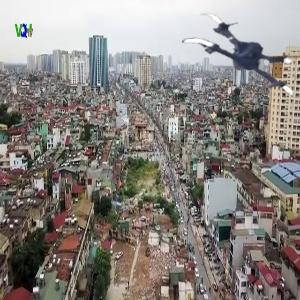drone: (178, 5, 299, 126)
